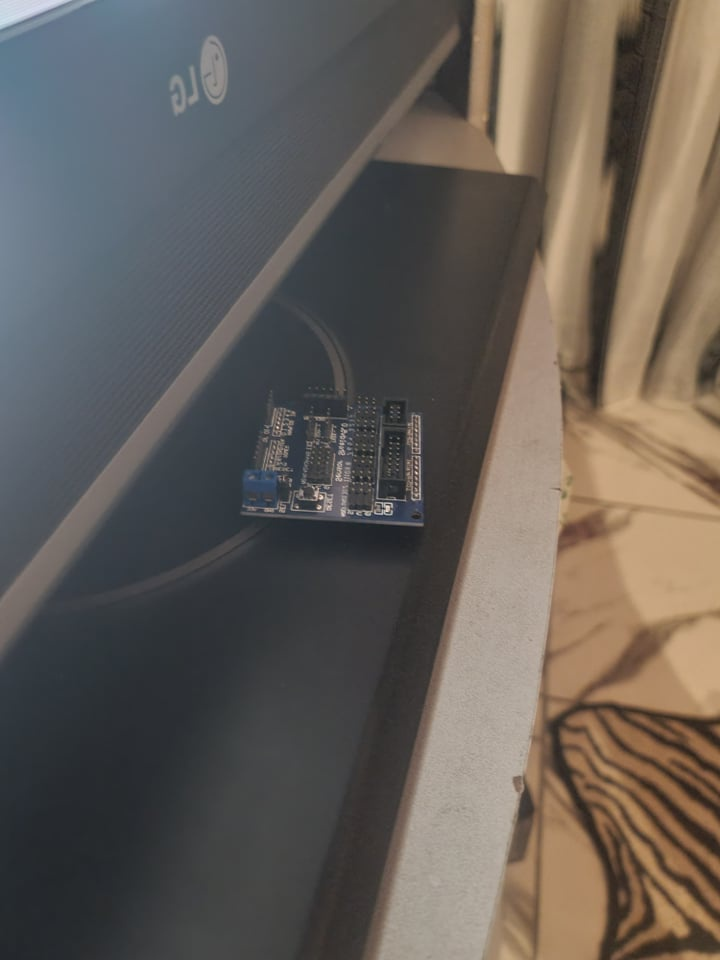5V EXPANSION: (240, 384, 430, 526)
